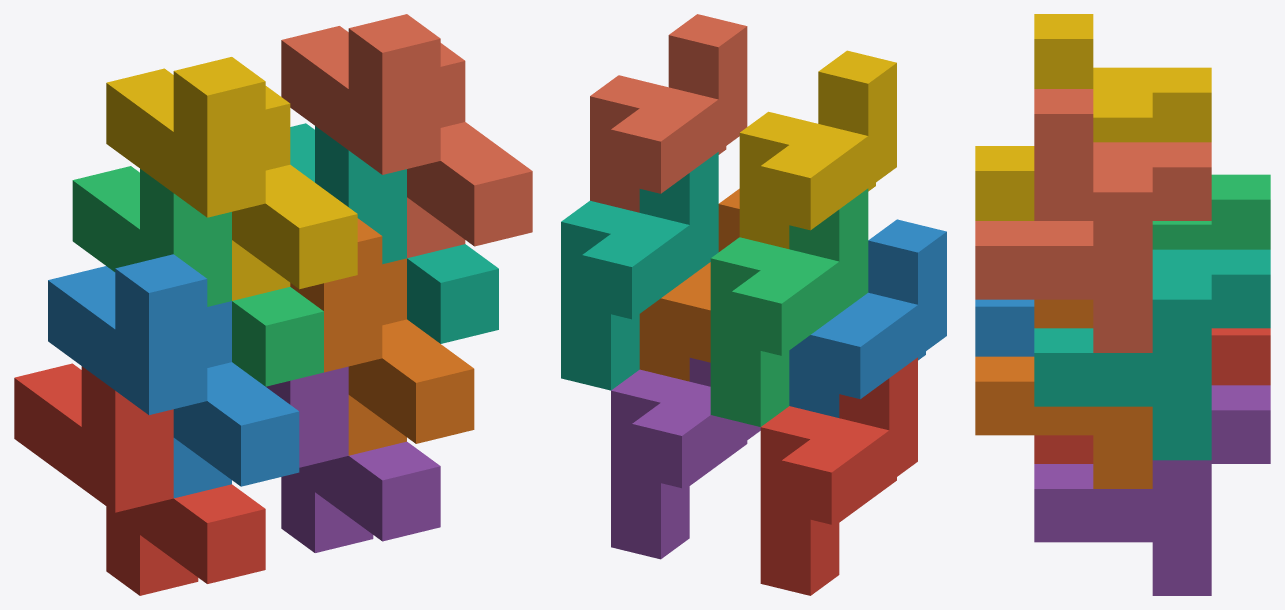
Rendered from tiling.obj.
The picture shows the model from 3 angles, left to right: view 1: azimuth 30°, elevation 25°; view 2: azimuth 150°, elevation 25°; view 3: azimuth 270°, elevation 25°; orthographic projection. The views are drawn at different scales.
Visible parts, largest first — view 1: copy_1_domain_4, copy_1_domain_8, copy_1_domain_2, copy_1_domain_1, copy_1_domain_6, copy_1_domain_3, copy_1_domain_5, copy_1_domain_7; view 2: copy_1_domain_1, copy_1_domain_3, copy_1_domain_7, copy_1_domain_4, copy_1_domain_8, copy_1_domain_5, copy_1_domain_2, copy_1_domain_6; view 3: copy_1_domain_8, copy_1_domain_7, copy_1_domain_5, copy_1_domain_4, copy_1_domain_6, copy_1_domain_3, copy_1_domain_1, copy_1_domain_2.
Part boxes in pixels (x1,y1,x2,y2): copy_1_domain_4: [106, 57, 357, 300]; copy_1_domain_8: [281, 14, 532, 258]; copy_1_domain_2: [48, 254, 299, 498]; copy_1_domain_1: [14, 363, 265, 595]; copy_1_domain_6: [290, 218, 474, 455]; copy_1_domain_3: [72, 166, 323, 386]; copy_1_domain_5: [266, 366, 440, 552]; copy_1_domain_7: [290, 123, 498, 343]; copy_1_domain_1: [760, 357, 917, 595]; copy_1_domain_3: [710, 188, 868, 426]; copy_1_domain_7: [561, 152, 718, 390]; copy_1_domain_4: [739, 50, 896, 248]; copy_1_domain_8: [590, 14, 747, 212]; copy_1_domain_5: [611, 357, 760, 559]; copy_1_domain_2: [789, 219, 946, 417]; copy_1_domain_6: [639, 188, 739, 381]; copy_1_domain_8: [975, 89, 1211, 352]; copy_1_domain_7: [1034, 249, 1270, 460]; copy_1_domain_5: [1034, 385, 1270, 595]; copy_1_domain_4: [975, 14, 1211, 220]; copy_1_domain_6: [975, 299, 1152, 488]; copy_1_domain_3: [1152, 174, 1270, 249]; copy_1_domain_1: [1034, 328, 1270, 463]; copy_1_domain_2: [975, 299, 1034, 356].
Bounding box in the file's own units: 6 × 9 × 5.
